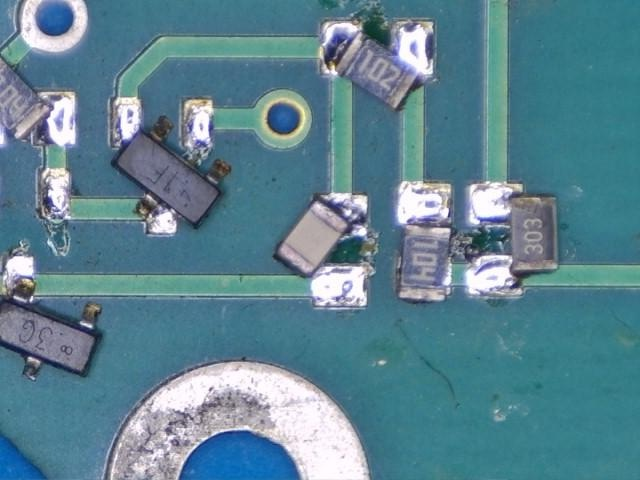pcb_defect: (111, 97, 233, 237), (0, 254, 102, 383), (274, 194, 372, 309), (319, 18, 436, 112), (467, 182, 560, 297), (0, 54, 76, 147), (396, 181, 452, 302)
